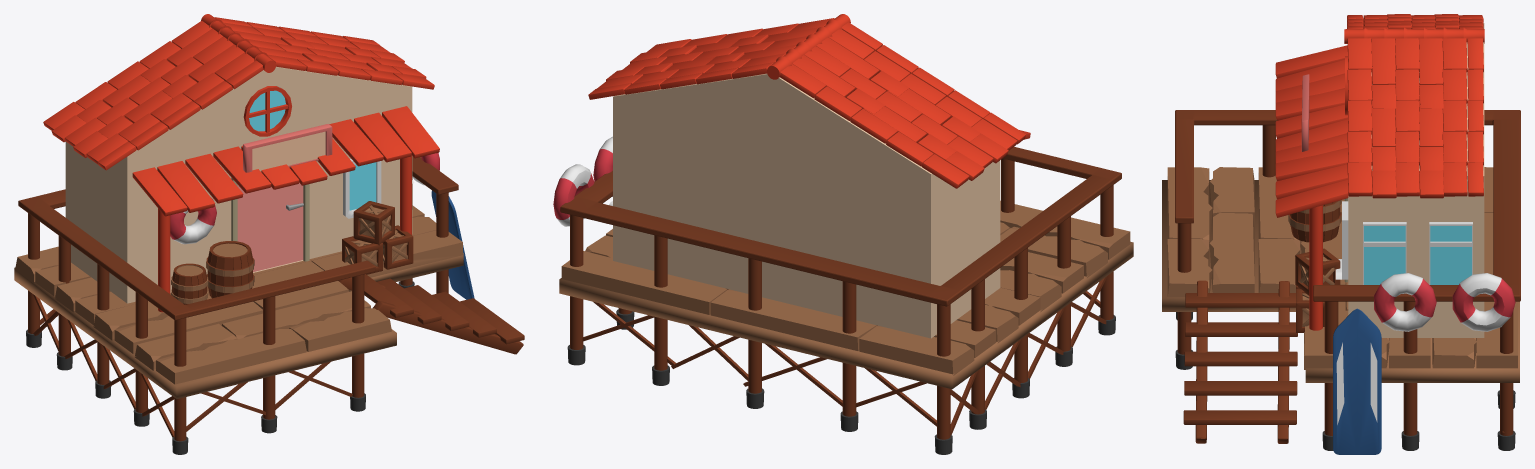
Rendered from object_house.glb.
3 renders of one model, left to right at view 1: azimuth 30°, elevation 25°; view 2: azimuth 150°, elevation 25°; view 3: azimuth 270°, elevation 25°, orthographic. The views are drawn at different scales.
Parts seen in each view (by area): view 1: Plane.007_20, Plane.015_30, Cube.008_14, Plane.014_29, Cylinder.006_17, Plane.004_15, Cylinder.010_37, Cube.005_22, Cylinder.005_16, Plane.013_28, Plane.021_39, Plane.016_31 (+10 smaller); view 2: Plane.007_20, Plane.015_30, Cube.008_14, Cylinder.006_17, Plane.004_15, Cylinder.010_37, Cylinder.005_16, Plane.021_39, Torus.002_36, Torus.001_35; view 3: Plane.015_30, Cube.008_14, Plane.014_29, Cylinder.006_17, Plane.007_20, Plane.013_28, Plane.017_38, Plane.004_15, Cylinder.010_37, Cylinder.005_16, Plane.011_26, Torus.002_36 (+8 smaller).
Boxes of the visible parts, x1,y1,x2,y2 form: Plane.007_20: (65,66,412,303); Plane.015_30: (43,14,434,312); Cube.008_14: (15,205,462,384); Plane.014_29: (132,106,439,216); Cylinder.006_17: (18,156,458,320); Plane.004_15: (14,253,463,398); Cylinder.010_37: (26,269,448,454); Cube.005_22: (237,182,303,271); Cylinder.005_16: (28,176,448,366); Plane.013_28: (364,274,524,344); Plane.021_39: (33,294,352,437); Plane.016_31: (243,124,332,172); Plane.007_20: (613,73,1000,338); Plane.015_30: (588,14,1025,188); Cube.008_14: (561,200,1130,375); Cylinder.006_17: (560,146,1121,306); Plane.004_15: (559,241,1133,389); Cylinder.010_37: (567,271,1115,454); Cylinder.005_16: (570,158,1113,356); Plane.021_39: (582,276,1107,434); Torus.002_36: (553,164,594,226); Torus.001_35: (593,136,612,196); Plane.015_30: (1309,14,1484,330); Cube.008_14: (1167,167,1517,369); Plane.014_29: (1275,45,1348,217); Cylinder.006_17: (1175,110,1520,301); Plane.007_20: (1344,23,1484,337); Plane.013_28: (1183,293,1297,424); Plane.017_38: (1333,308,1381,454); Plane.004_15: (1162,180,1519,382); Cylinder.010_37: (1175,312,1515,450); Cylinder.005_16: (1177,125,1513,353); Plane.011_26: (1429,222,1472,284); Torus.002_36: (1452,273,1515,331).
Bounding box in the file's own units: 8.48 × 6.45 × 6.35.
